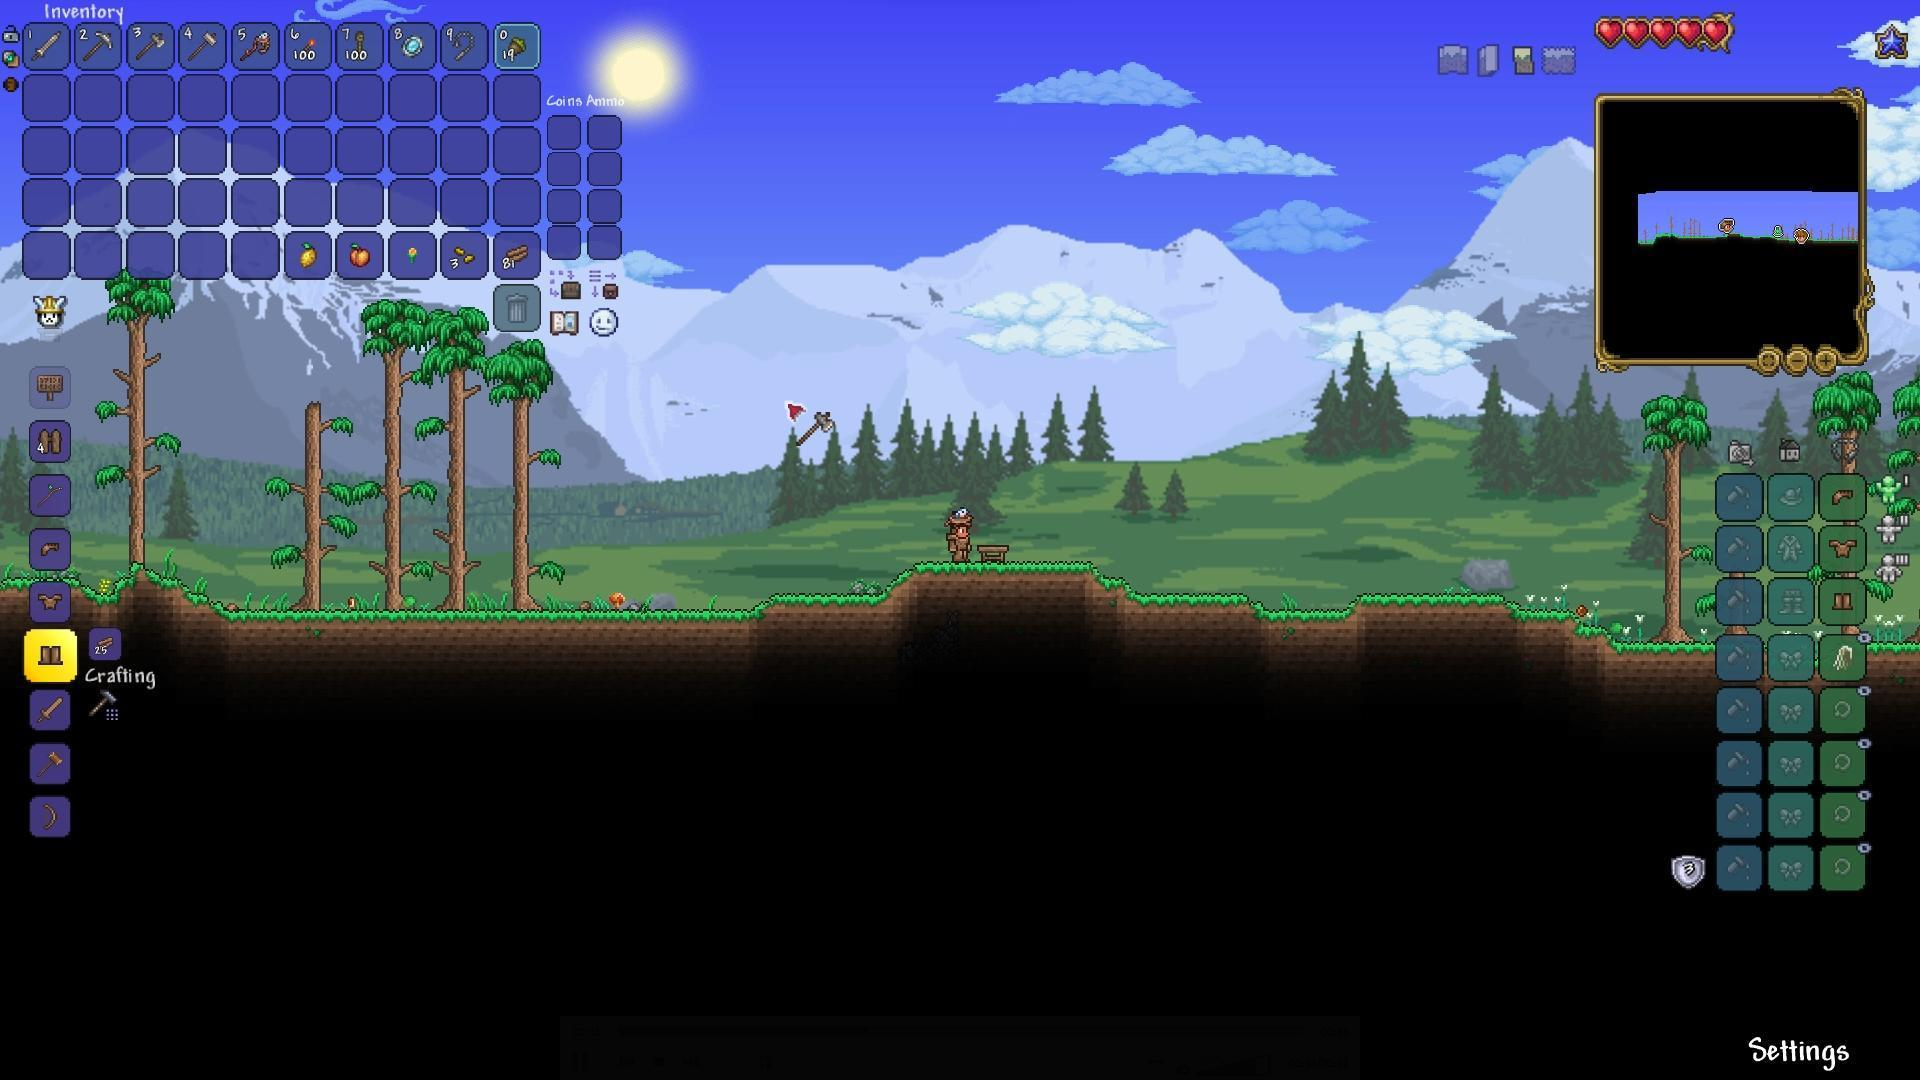helmet: (37, 538, 62, 559)
